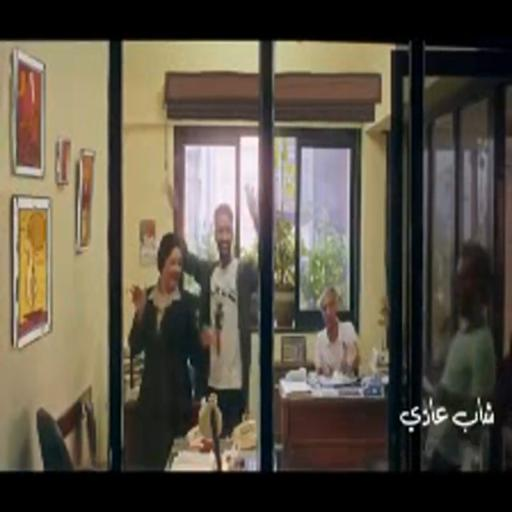nao-violencia: (124, 167, 256, 472)
